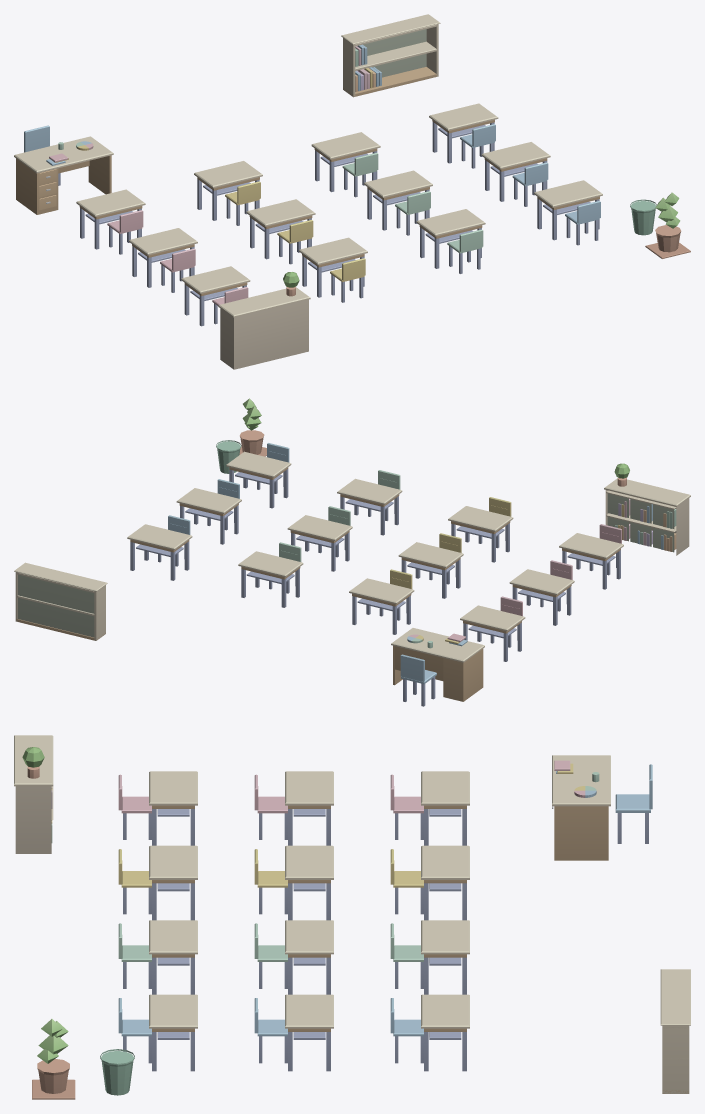
The model's file is k3_interior_props.glb.
3 renders of one model, top to bottom at view 1: azimuth 30°, elevation 25°; view 2: azimuth 150°, elevation 25°; view 3: azimuth 270°, elevation 25°, orthographic. The views are drawn at different scales.
Parts seen in each view (by area): view 1: almari_kelas, rak_buku_kecil, meja_guru, meja_murid_12, meja_murid_11, meja_murid_10, meja_murid_4, meja_murid_8, meja_murid_3, meja_murid_1, meja_murid_7, meja_murid_6 (+6 smaller); view 2: rak_buku_kecil, almari_kelas, meja_guru, meja_murid_4, meja_murid_3, meja_murid_2, meja_murid_12, meja_murid_6, meja_murid_5, meja_murid_1, meja_murid_10, meja_murid_7 (+6 smaller); view 3: meja_guru, almari_kelas, rak_buku_kecil, meja_murid_4, meja_murid_8, meja_murid_2, meja_murid_6, meja_murid_10, meja_murid_1, meja_murid_5, meja_murid_9, meja_murid_12 (+6 smaller).
Part boxes in pixels (<box>): almari_kelas: <box>218,272,310,369</box>; rak_buku_kecil: <box>341,14,440,97</box>; meja_guru: <box>14,136,113,214</box>; meja_murid_12: <box>534,180,602,245</box>; meja_murid_11: <box>416,209,485,273</box>; meja_murid_10: <box>299,237,367,302</box>; meja_murid_4: <box>429,103,498,168</box>; meja_murid_8: <box>481,142,550,206</box>; meja_murid_3: <box>311,132,380,197</box>; meja_murid_1: <box>76,189,145,254</box>; meja_murid_7: <box>364,170,432,235</box>; meja_murid_6: <box>246,199,315,264</box>; rak_buku_kecil: <box>14,562,107,640</box>; almari_kelas: <box>604,463,690,555</box>; meja_guru: <box>391,628,484,701</box>; meja_murid_4: <box>127,515,192,580</box>; meja_murid_3: <box>238,542,303,607</box>; meja_murid_2: <box>349,569,414,634</box>; meja_murid_12: <box>226,443,291,508</box>; meja_murid_6: <box>398,533,463,598</box>; meja_murid_5: <box>509,560,574,625</box>; meja_murid_1: <box>460,596,525,661</box>; meja_murid_10: <box>448,497,513,562</box>; meja_murid_7: <box>287,506,352,571</box>; meja_guru: <box>552,755,610,860</box>; almari_kelas: <box>14,735,53,853</box>; rak_buku_kecil: <box>660,969,690,1093</box>; meja_murid_4: <box>390,994,469,1071</box>; meja_murid_8: <box>254,994,333,1071</box>; meja_murid_2: <box>390,845,469,920</box>; meja_murid_6: <box>254,845,333,920</box>; meja_murid_10: <box>118,845,197,920</box>; meja_murid_1: <box>390,771,469,845</box>; meja_murid_5: <box>254,771,333,845</box>; meja_murid_9: <box>118,771,197,845</box>; meja_murid_12: <box>118,994,197,1071</box>.
Size of the model in its own units: 8.69 by 1.38 by 8.47.
